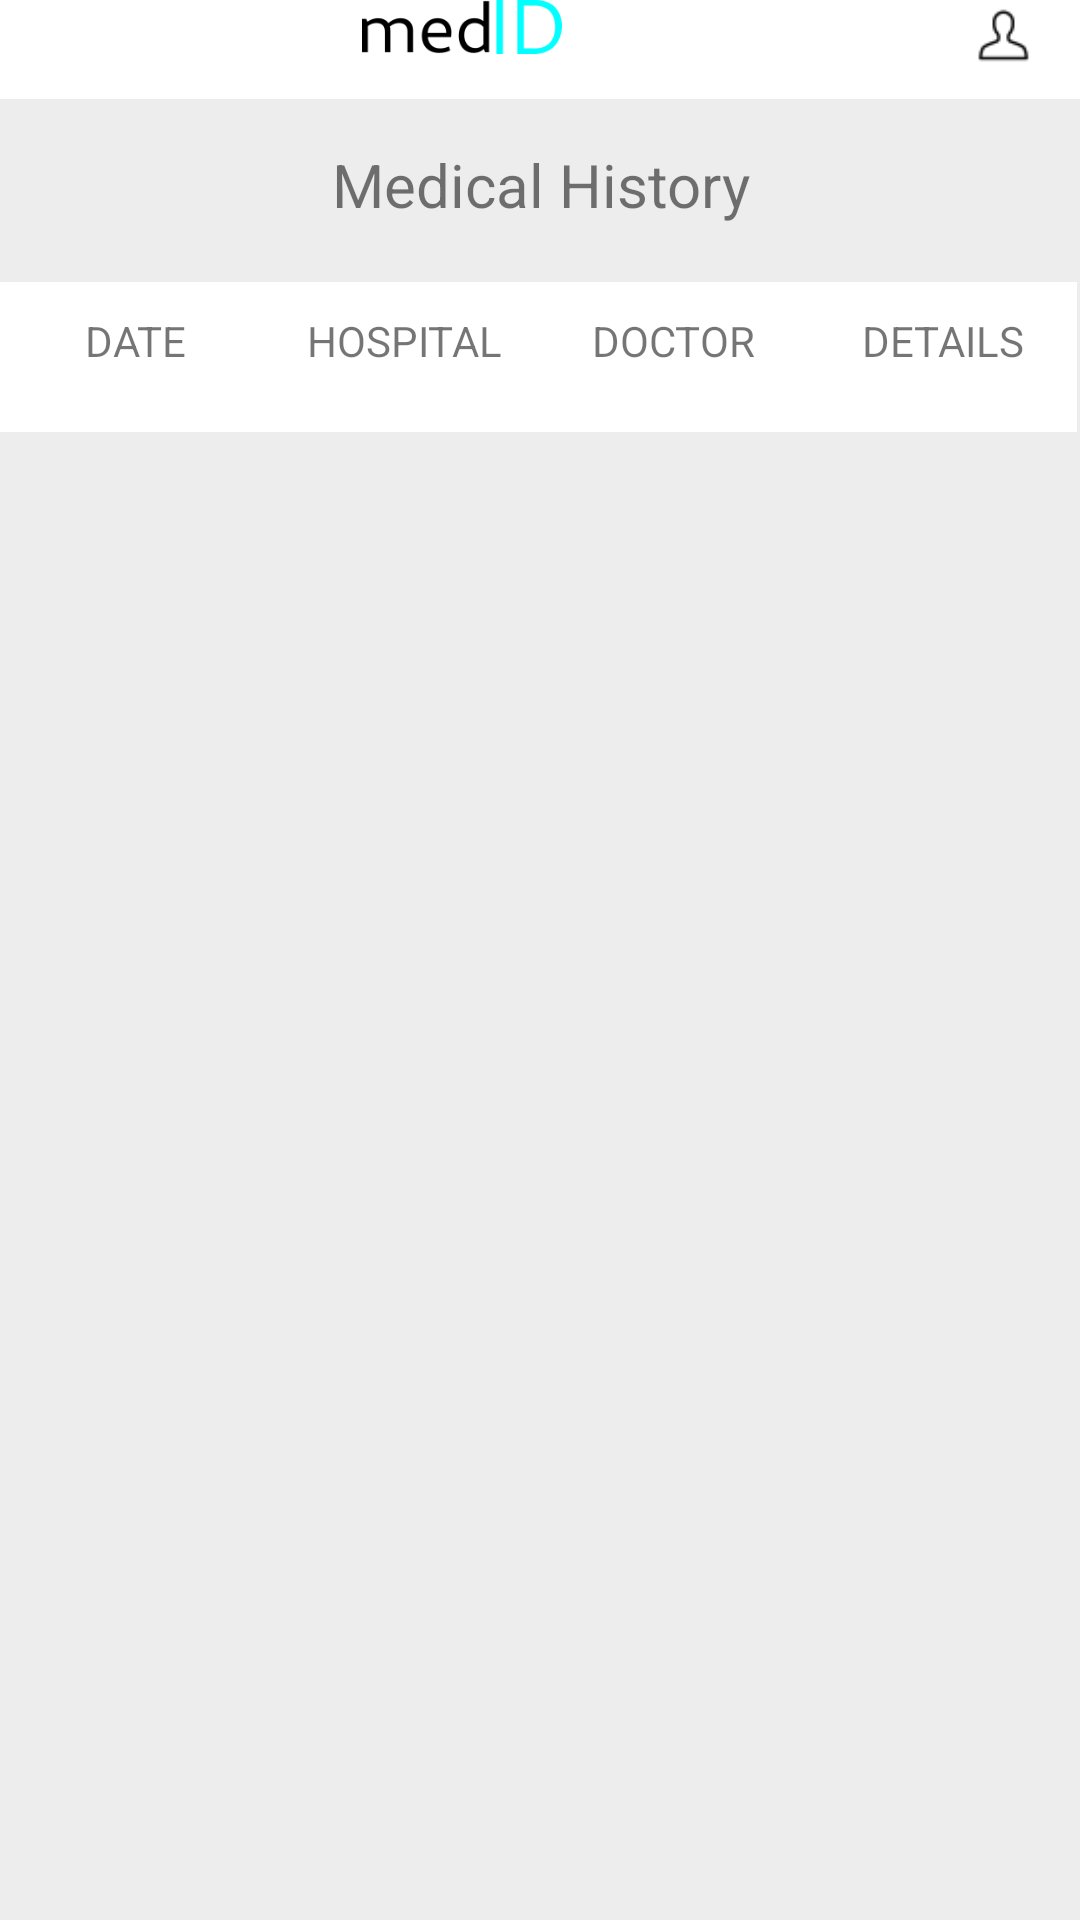

Icons on this 1080px x 1920px Android screen, each with the point to tap as (x=x, y=y):
usr: (x=1003, y=35)
